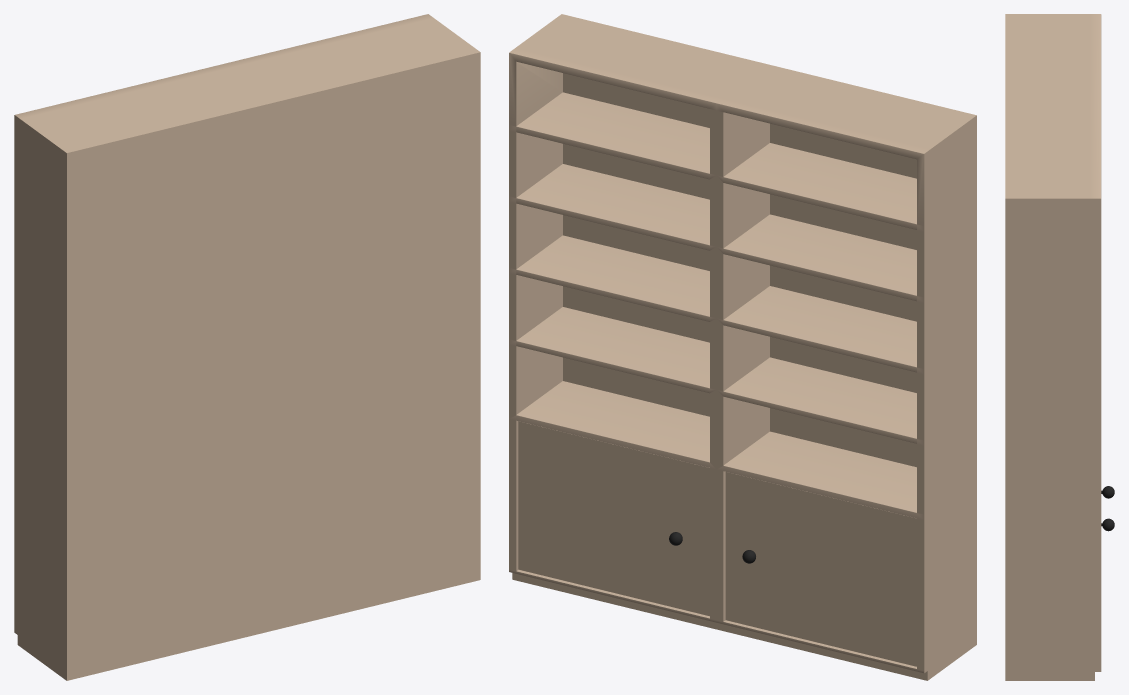
The model's file is Bookshelf.fbx.
The picture shows the model from 3 angles, left to right: view 1: azimuth 30°, elevation 25°; view 2: azimuth 150°, elevation 25°; view 3: azimuth 270°, elevation 25°; orthographic projection. The views are drawn at different scales.
Parts seen in each view (by area): view 1: Bookshelf; view 2: Bookshelf; view 3: Bookshelf, Knob.
Part boxes in pixels (x1=…): Bookshelf: x1=14, y1=14, x2=480, y2=680; Bookshelf: x1=509, y1=14, x2=976, y2=680; Bookshelf: x1=1005, y1=14, x2=1101, y2=680; Knob: x1=1101, y1=486, x2=1114, y2=531.
Bounding box in the file's own units: 200 × 244 × 50.2.
